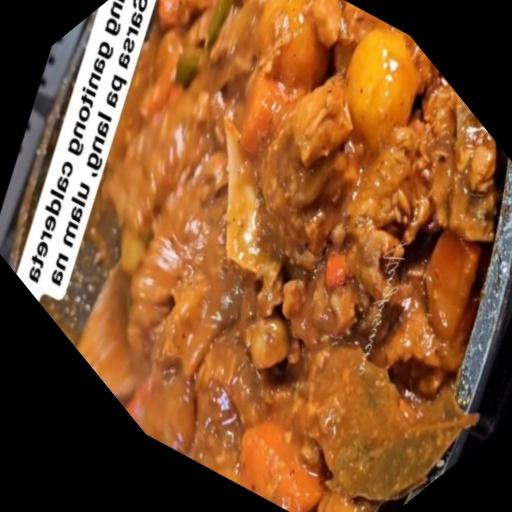pork caldereta: (136, 1, 495, 511)
